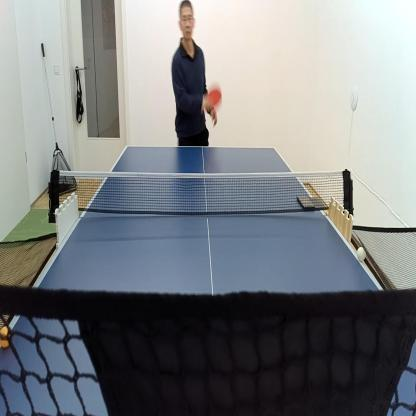Ball: (0, 325, 10, 348), (357, 245, 366, 261)
